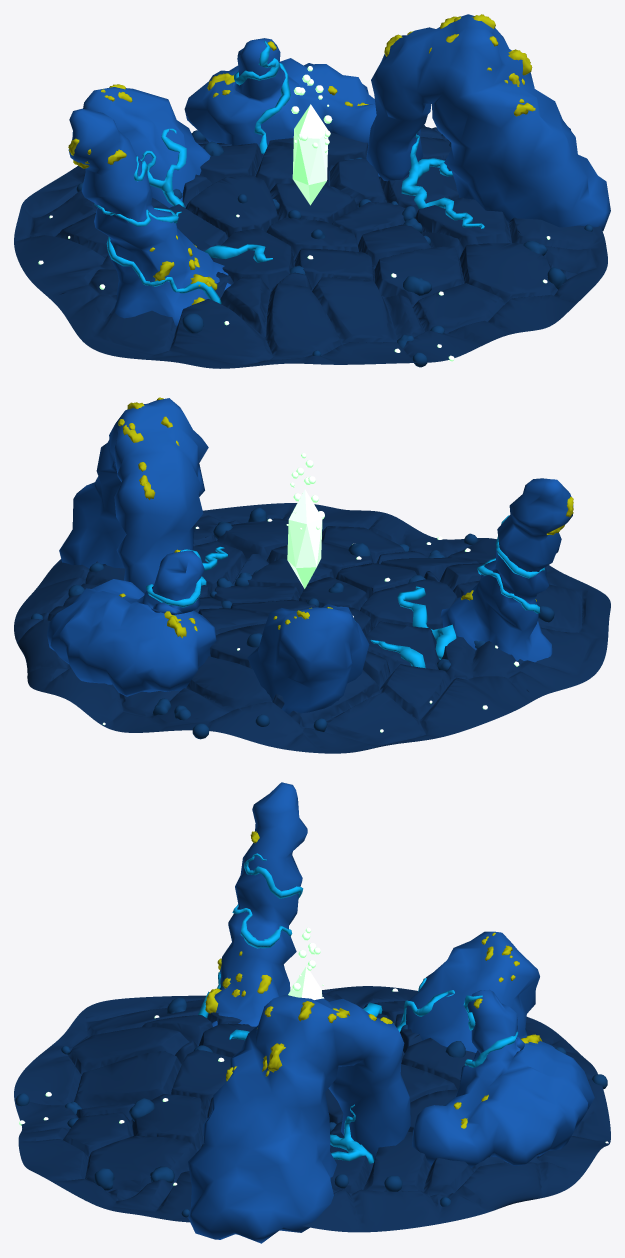
3 views of the same model, one above another, from view 1: azimuth 30°, elevation 25°; view 2: azimuth 150°, elevation 25°; view 3: azimuth 270°, elevation 25° (orthographic). The views are drawn at different scales.
Parts seen in each view (by area): view 1: Ground_0, Rock 1.001_3, Rock 1.002_4, Rock 2_2, Rock 1_1, Crystal_10, Plane_5, Plane.003_8, Plane.001_6, Plane.002_7; view 2: Ground_0, Rock 1.001_3, Rock 2_2, Rock 1.002_4, Rock 1_1, Crystal_10, Plane_5, Plane.003_8, Plane.001_6; view 3: Ground_0, Rock 1.001_3, Rock 2_2, Rock 1.002_4, Rock 1_1, Plane.003_8, Plane_5, Plane.001_6, Crystal_10.
Part boxes in pixels (<box>): Ground_0: <box>14,125,607,368</box>; Rock 1.001_3: <box>366,14,610,230</box>; Rock 1.002_4: <box>68,108,230,326</box>; Rock 2_2: <box>184,38,376,154</box>; Rock 1_1: <box>83,87,210,207</box>; Crystal_10: <box>292,104,328,205</box>; Plane_5: <box>175,131,484,262</box>; Plane.003_8: <box>94,156,221,303</box>; Plane.001_6: <box>234,41,290,153</box>; Plane.002_7: <box>140,128,186,208</box>; Ground_0: <box>14,503,610,753</box>; Rock 1.001_3: <box>59,398,208,593</box>; Rock 2_2: <box>47,550,216,696</box>; Rock 1.002_4: <box>440,478,573,662</box>; Rock 1_1: <box>247,604,369,714</box>; Crystal_10: <box>287,489,322,588</box>; Plane_5: <box>201,546,456,668</box>; Plane.003_8: <box>477,515,544,613</box>; Plane.001_6: <box>145,549,202,607</box>; Ground_0: <box>14,986,610,1232</box>; Rock 1.001_3: <box>188,994,410,1243</box>; Rock 2_2: <box>412,989,594,1167</box>; Rock 1.002_4: <box>212,782,307,1026</box>; Rock 1_1: <box>406,931,539,1052</box>; Plane.003_8: <box>198,853,303,1018</box>; Plane_5: <box>229,1002,382,1163</box>; Plane.001_6: <box>463,995,518,1067</box>; Crystal_10: <box>288,966,322,999</box>.
Size of the model in its own units: 941 by 414 by 914.
